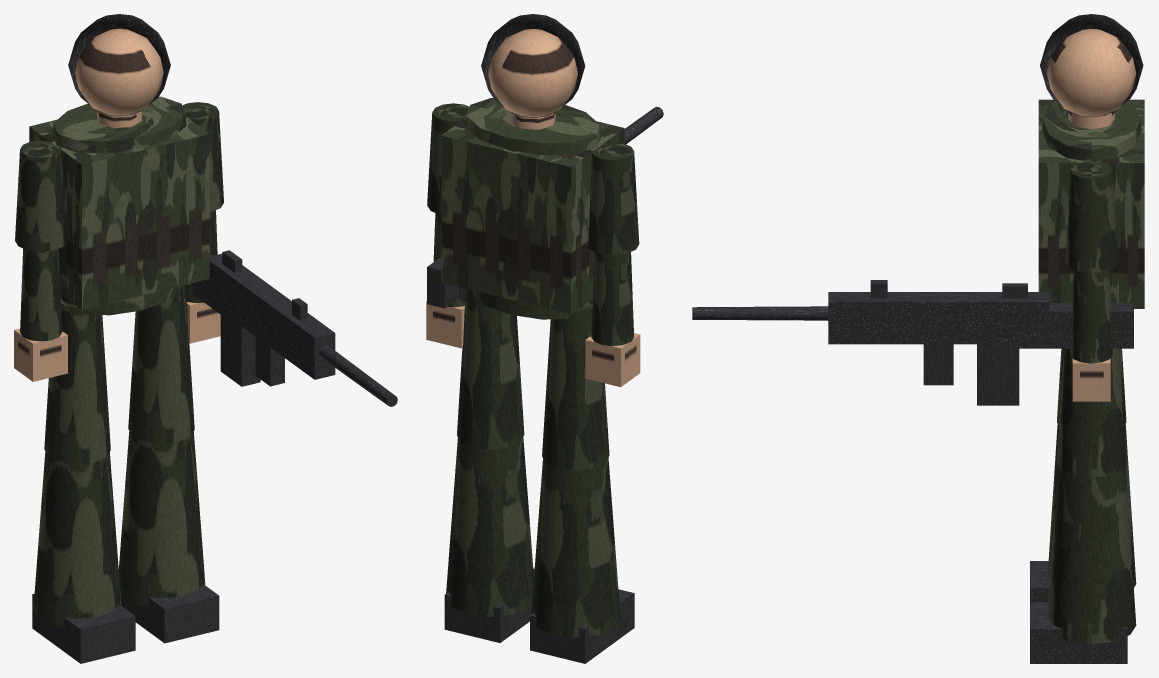
Rendered from soldier.glb.
3 views of the same model, side by side, from view 1: azimuth 30°, elevation 25°; view 2: azimuth 150°, elevation 25°; view 3: azimuth 270°, elevation 25° (orthographic).
Visible parts, largest first — view 1: soldier, rifle; view 2: soldier, rifle; view 3: soldier, rifle.
Part boxes in pixels (<box>): soldier: <box>14,14,223,663</box>; rifle: <box>192,250,397,406</box>; soldier: <box>426,14,640,663</box>; rifle: <box>427,106,663,308</box>; soldier: <box>1030,14,1144,663</box>; rifle: <box>692,280,1133,405</box>.
Size of the model in its own units: 0.6284 by 1.8 by 1.21.
1 material, 1 textured.
